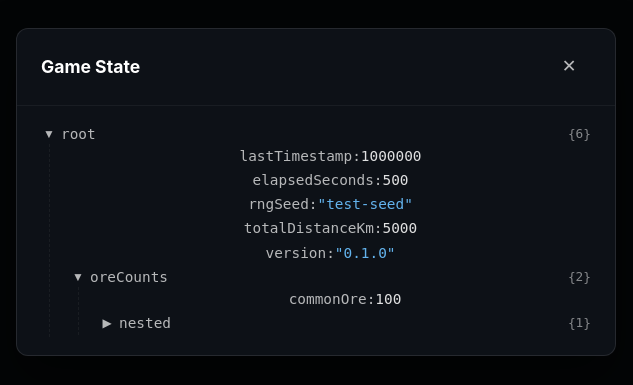
Test: GameStateViewer › should expand a collapsed object when its toggle is clicked
The width and height of the screenshot is (633, 385).
Click the button named "Expand" at (107, 323), box [99,315,115,331]
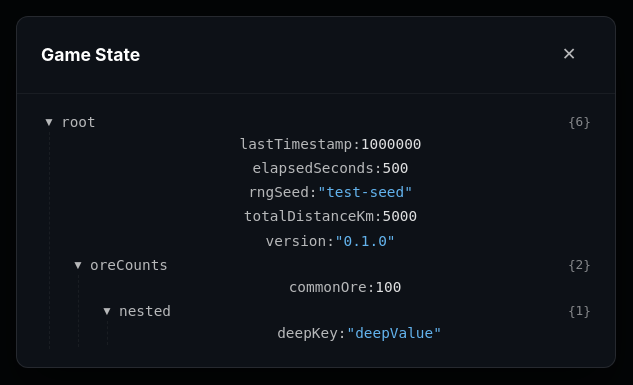
Expected: the element with test id "game-state-json" shows "deepKey", [277,325,338,341]
Expected: the element with test id "game-state-json" shows "deepValue", [346,325,442,341]
